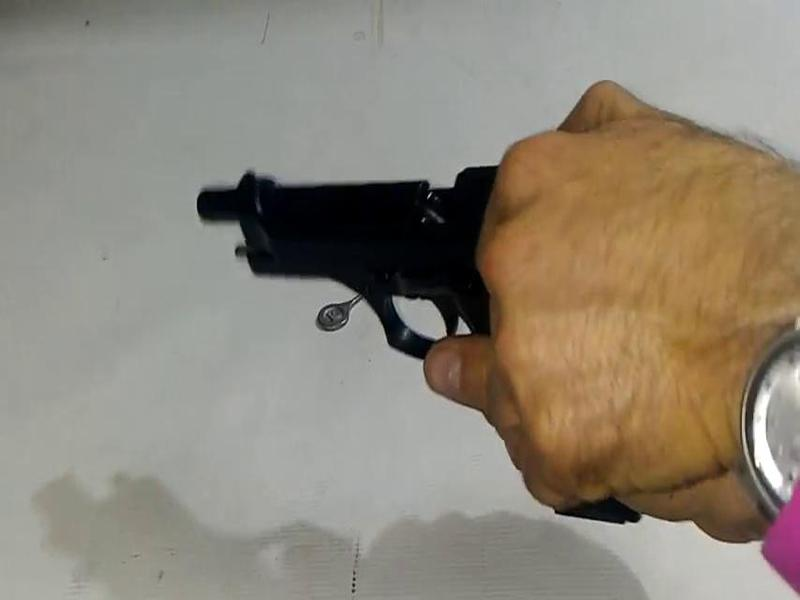Pistola: (188, 135, 660, 546)
